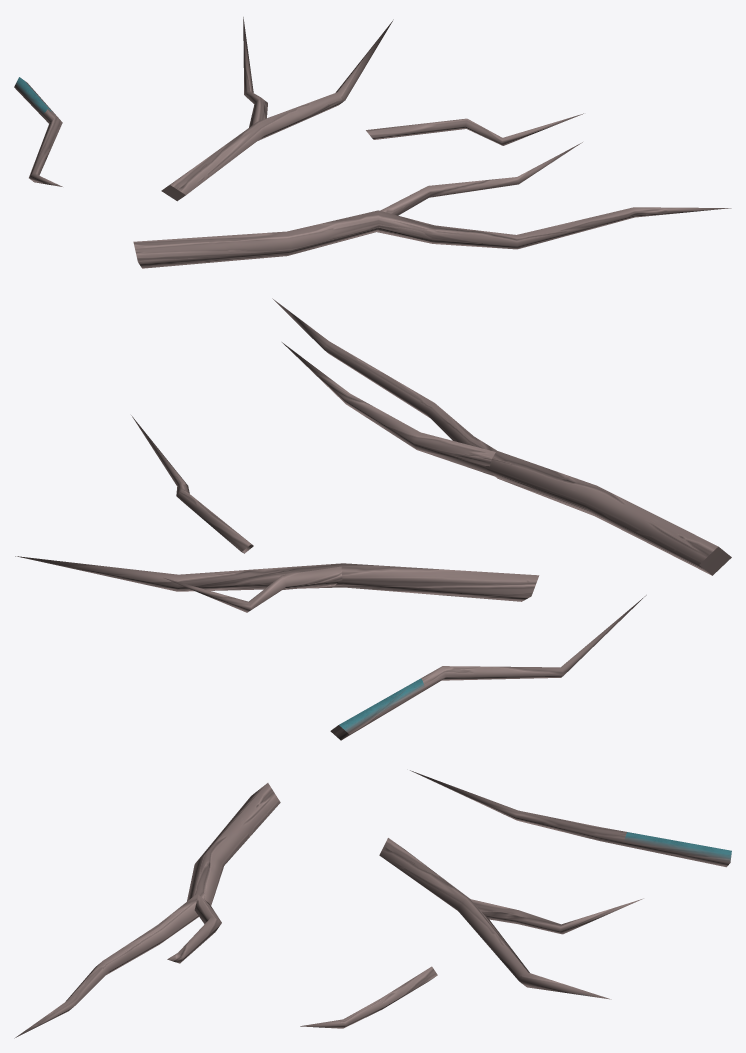
The picture shows the model from 3 angles, top to bottom: view 1: azimuth 30°, elevation 25°; view 2: azimuth 150°, elevation 25°; view 3: azimuth 270°, elevation 25°; orthographic projection. The views are drawn at different scales.
Visible parts, largest first — view 1: submesh_0; view 2: submesh_0; view 3: submesh_0.
Boxes of the visible parts, x1,y1,x2,y2 form: submesh_0: (14,17,731,268); submesh_0: (15,298,731,740); submesh_0: (14,770,731,1038).
Size of the model in its own units: 0.4942 by 0.0628 by 0.5762.
1 material, 1 textured.
